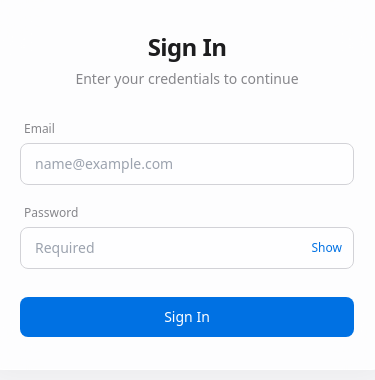
Test case: Authentication › Login form › should show validation errors when submitting empty form
The width and height of the screenshot is (375, 380).
Click the submit button at (187, 317), box [20,297,354,337]
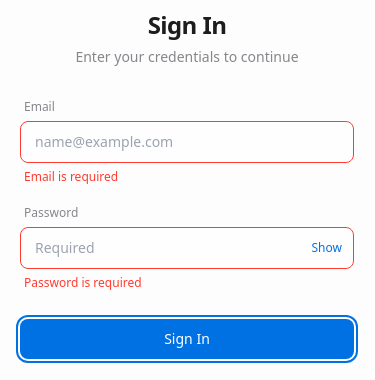
Now the text "Email is required" is shown, box [24,168,118,185]
